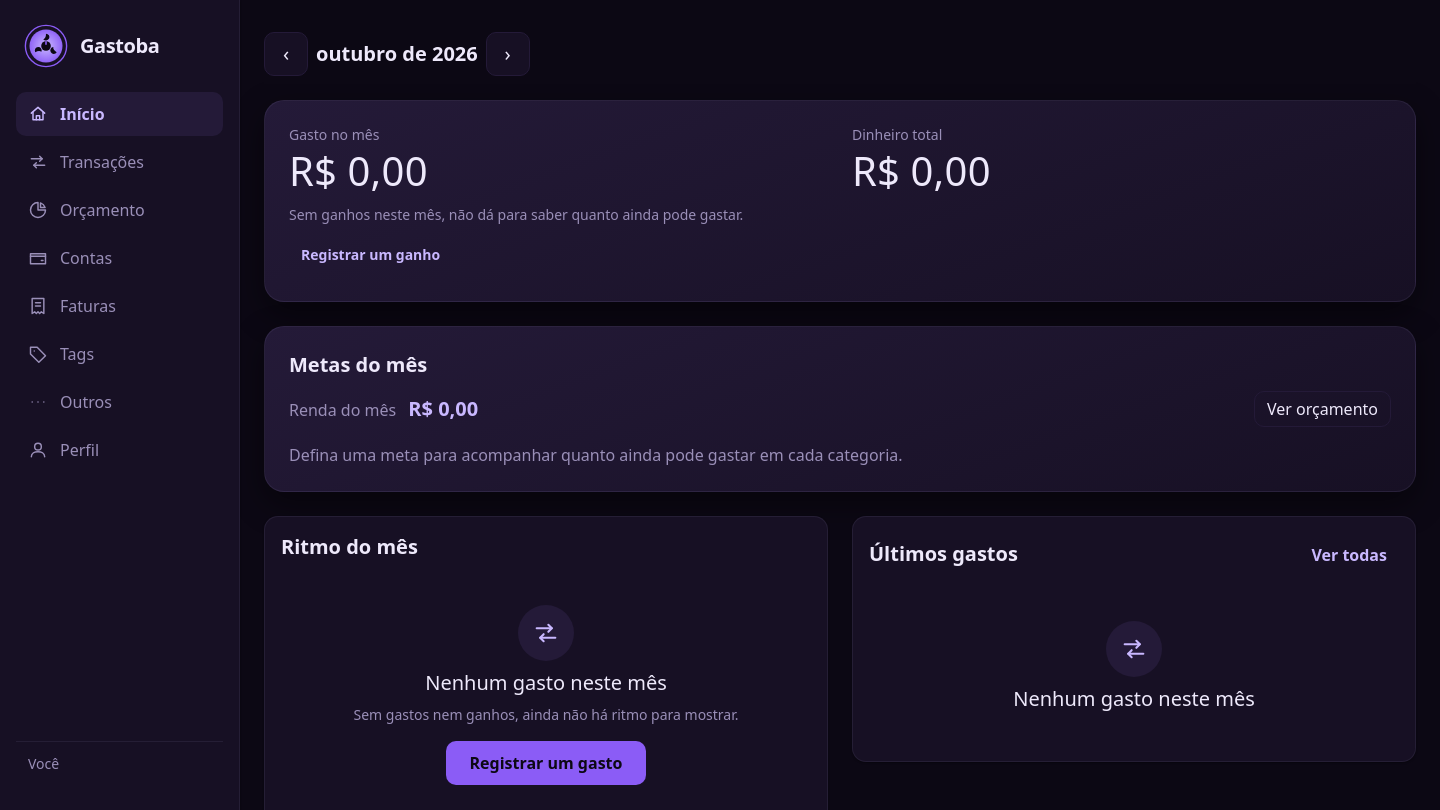
Test: App › Ver orçamento, no Início, leva a Orçamento
The image size is (1440, 810).
Expected: the heading "Metas do mês" is shown, [289, 351, 427, 378]
Click the button "Ver orçamento": x=1322, y=409 [1254, 391, 1391, 427]
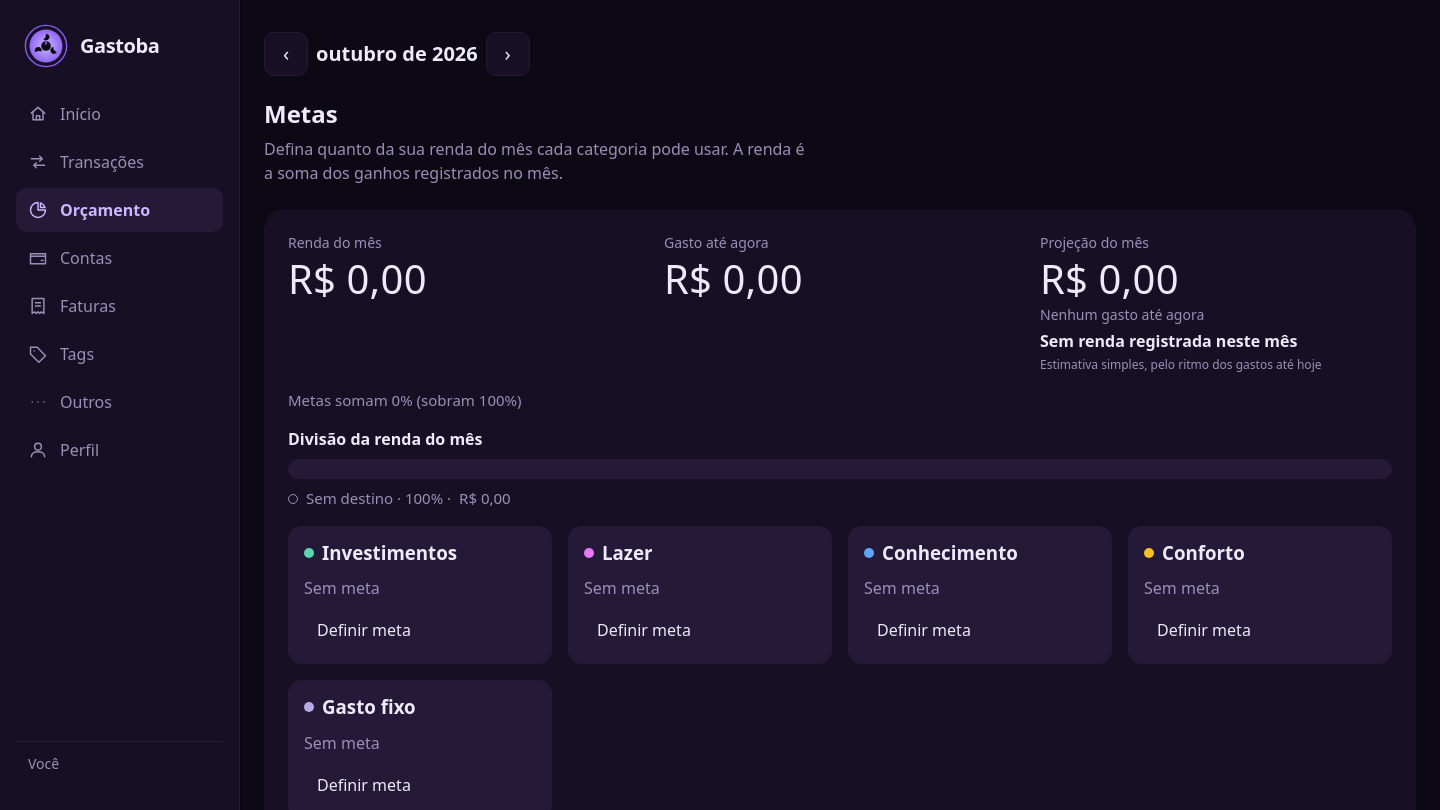
Result: the heading "Metas" is shown at [264, 97, 338, 130]
